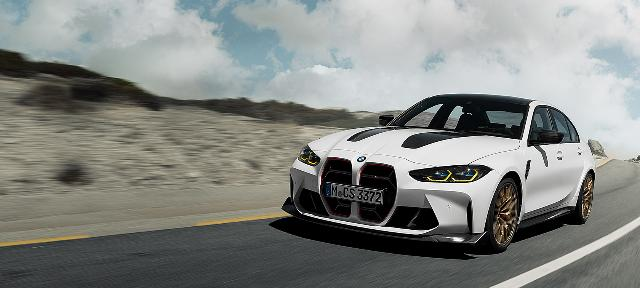bmw: (282, 93, 596, 251)
